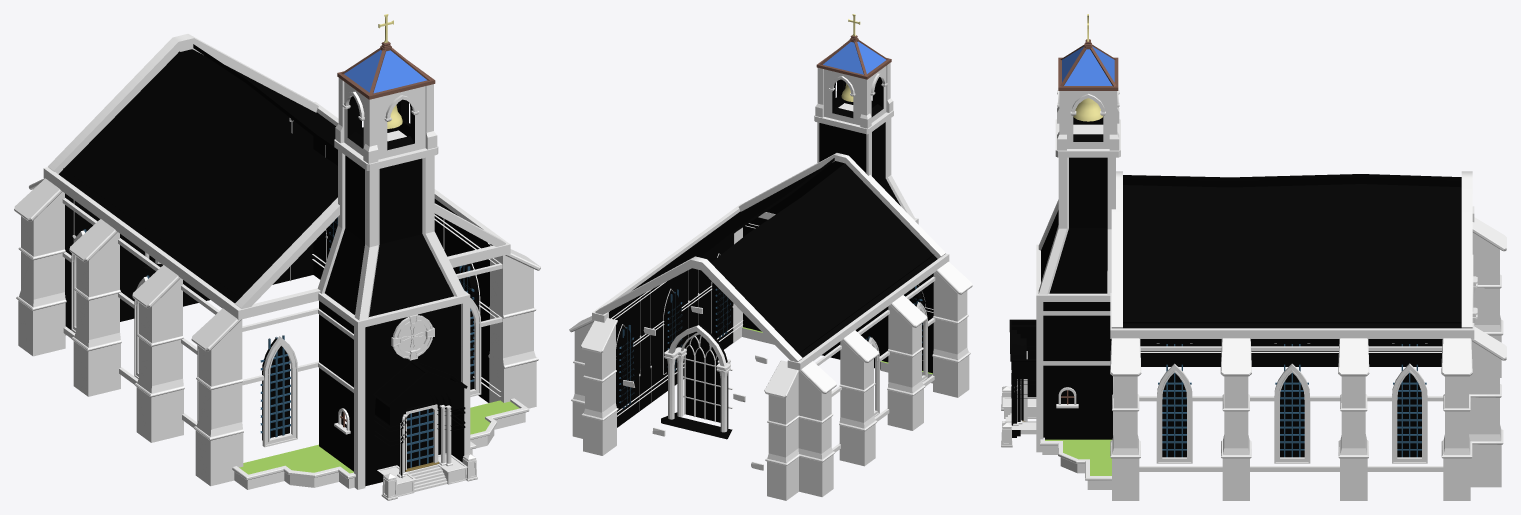
File: church inverted.fbx
3 renders of one model, left to right at view 1: azimuth 30°, elevation 25°; view 2: azimuth 150°, elevation 25°; view 3: azimuth 270°, elevation 25°, orthographic. The views are drawn at different scales.
Visible parts, largest first — view 1: church_c; view 2: church_c; view 3: church_c.
Part boxes in pixels (<box>): church_c: <box>14,14,540,500</box>; church_c: <box>569,14,972,500</box>; church_c: <box>1001,14,1506,500</box>.
Bounding box in the file's own units: 2566 × 3222 × 3587.
